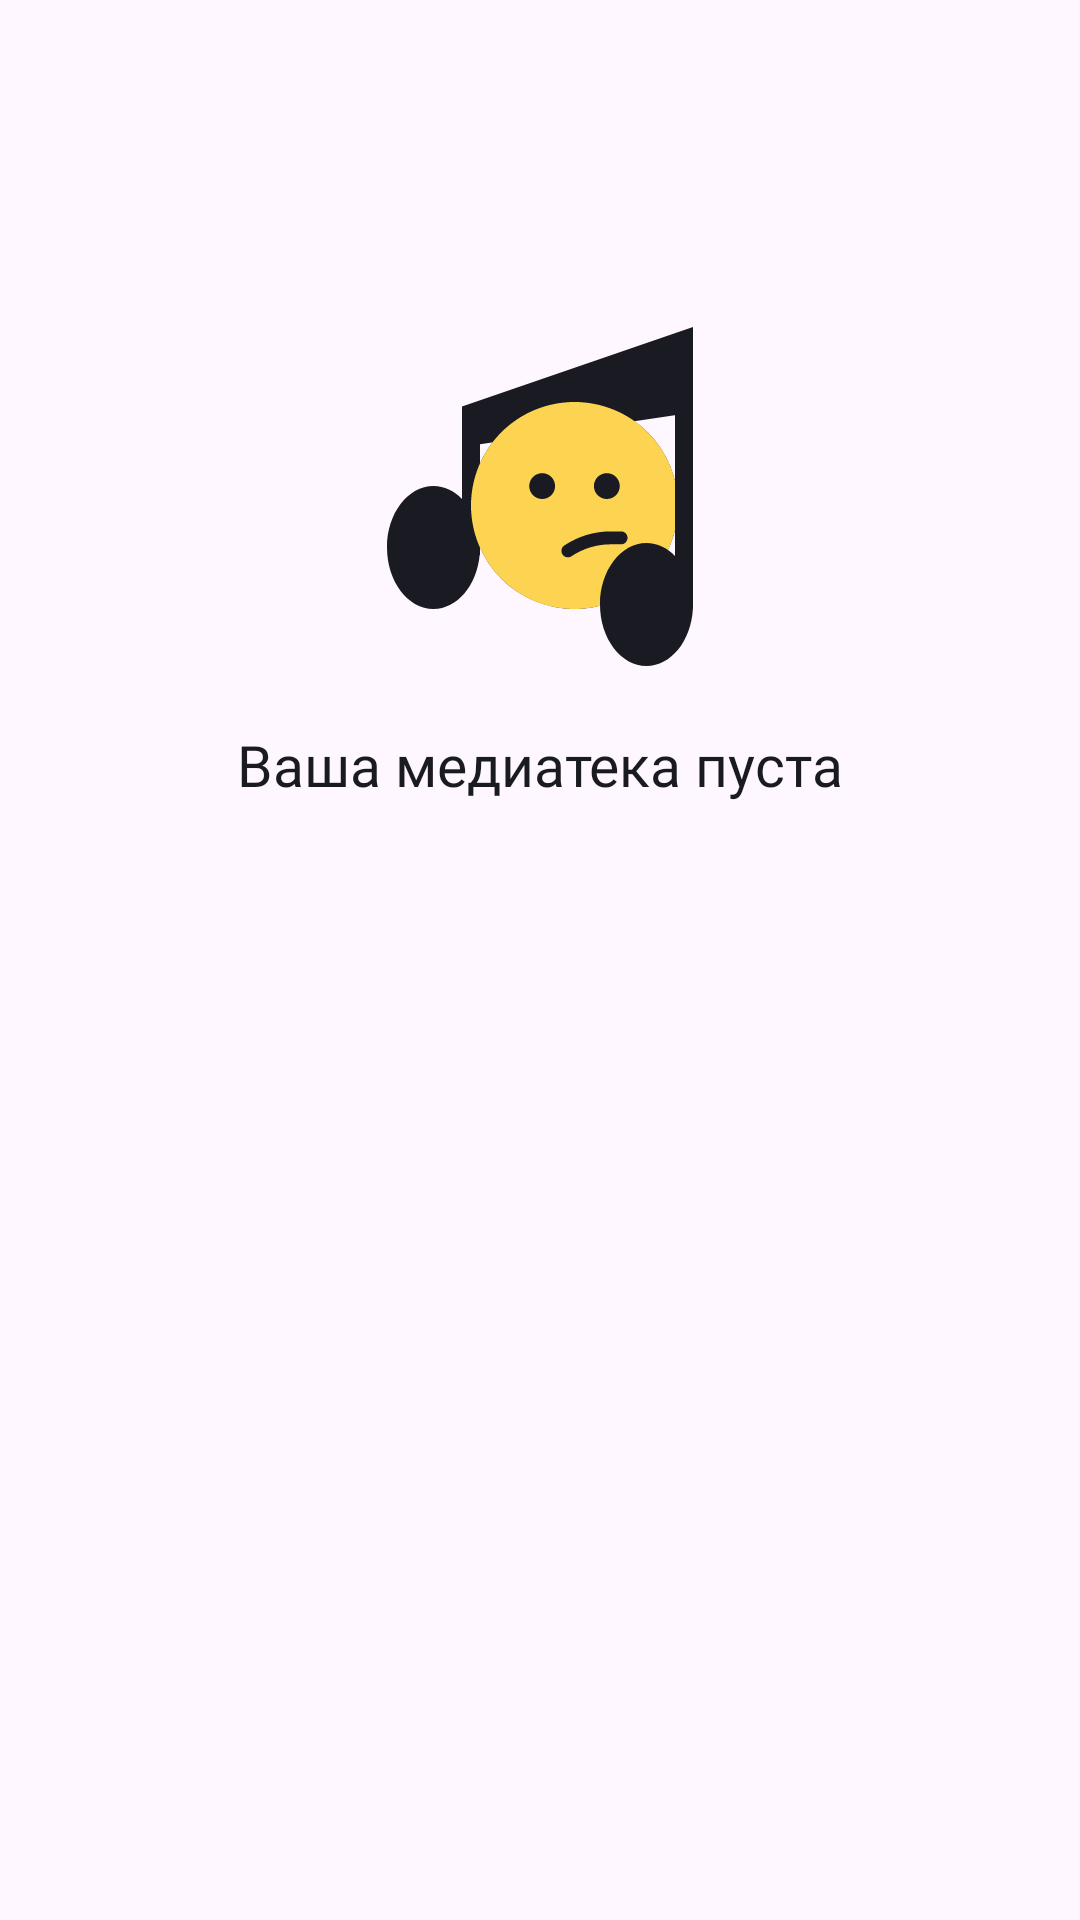

Icons on this 1080 x 1920 Android screen, each with its box as [x1,y1,x2,y2]:
no results: [387,327,693,666]
